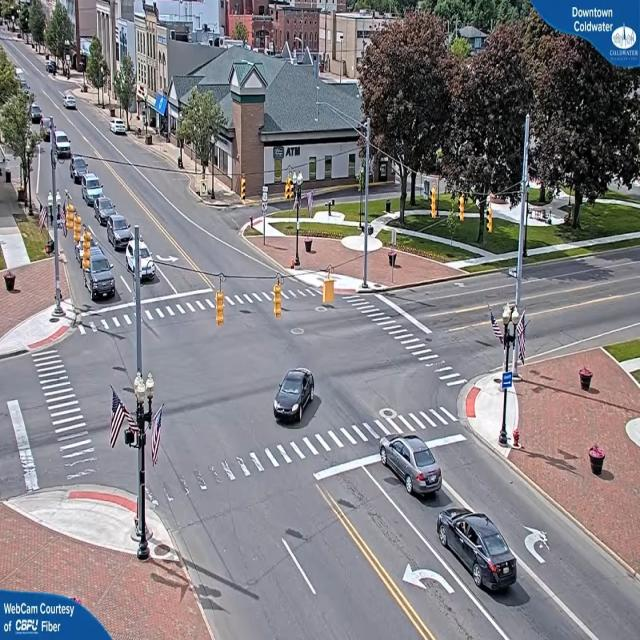car: (435, 509, 521, 596), (378, 433, 442, 501), (272, 369, 316, 426), (85, 246, 118, 297), (107, 216, 135, 250), (95, 198, 117, 222), (54, 132, 72, 158)
